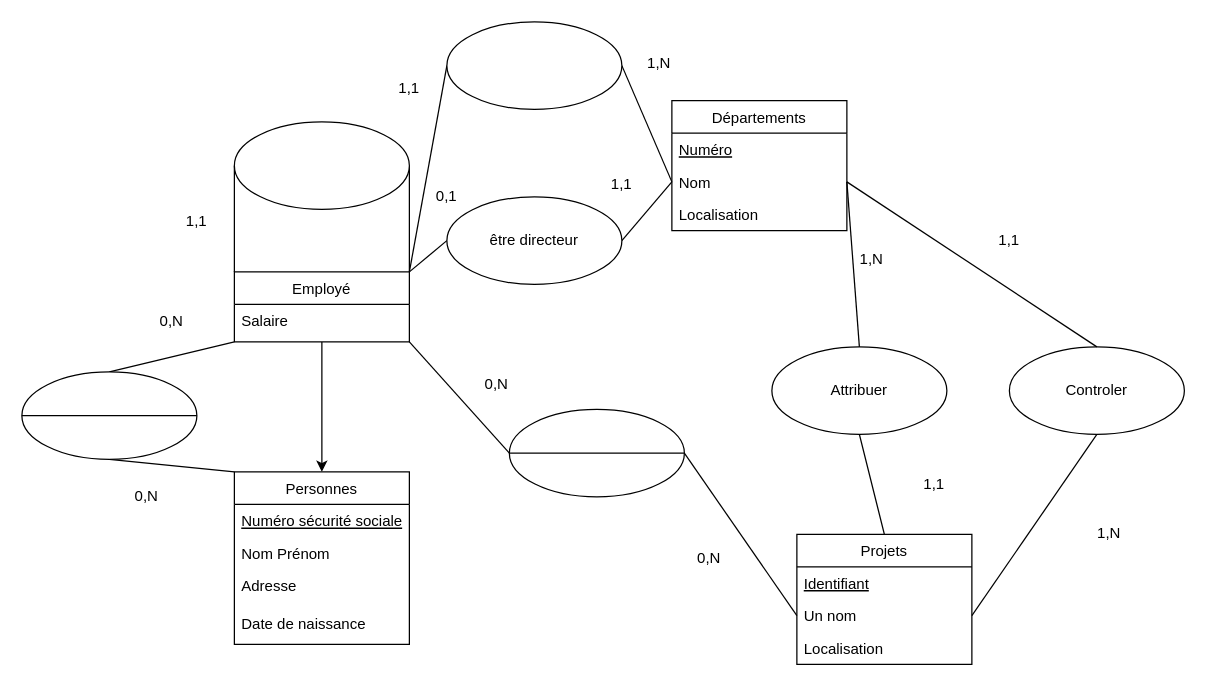
Image size: 1206x690. Some labels were removed from this diagram. Each missing label, with the centre of its shape:
"Appartenir" goes at point (534, 65).
"travailler heure attribuées" goes at point (596, 452).
"être chef" goes at point (321, 165).
"être en charge de lien de parenté" goes at point (109, 415).
